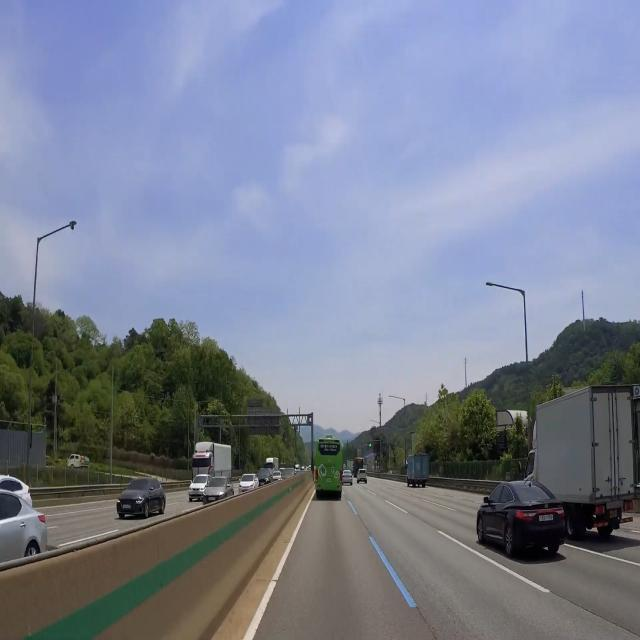car: (605, 506, 624, 522), (537, 511, 555, 527), (118, 499, 134, 517), (323, 475, 333, 487)
